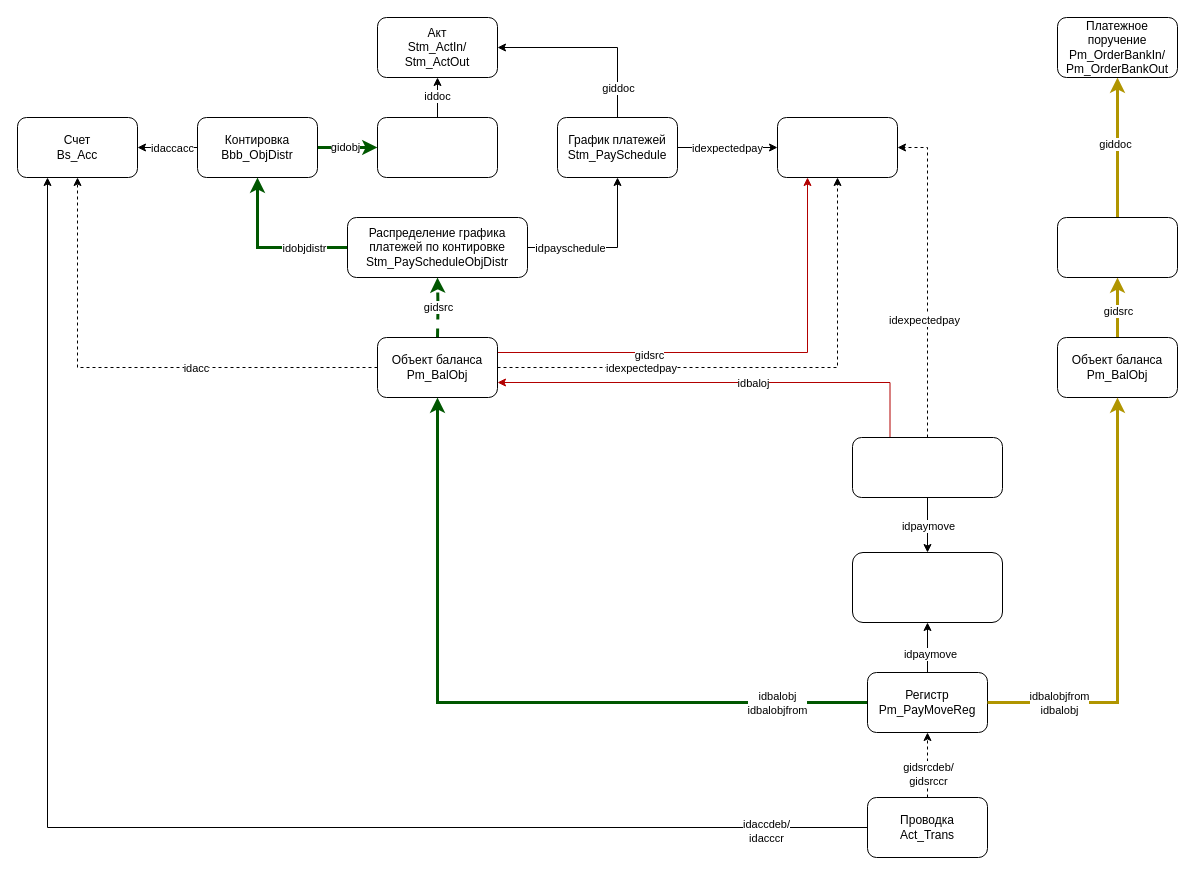
The diagram is 1195 pixels wide and 875 high, and some of its shapes have lost their labels. Each missing label, with the box of its shape:
Документ взаиморасчета (Зачет аванса, Факт и т.д.) Pm_PayMove: (852, 552, 1002, 622)
Документ предварительного платежа Pm_ExpectedPay: (776, 116, 898, 178)
Позиция акта Stm_ActInDet/ Stm_ActOutDet: (376, 116, 498, 178)
Распределение по различным характеристикам Pm_ObjSumDistr: (1056, 216, 1178, 278)
Фиксированное распределение Pm_PayMoveBOFixDistr: (852, 436, 1002, 498)
